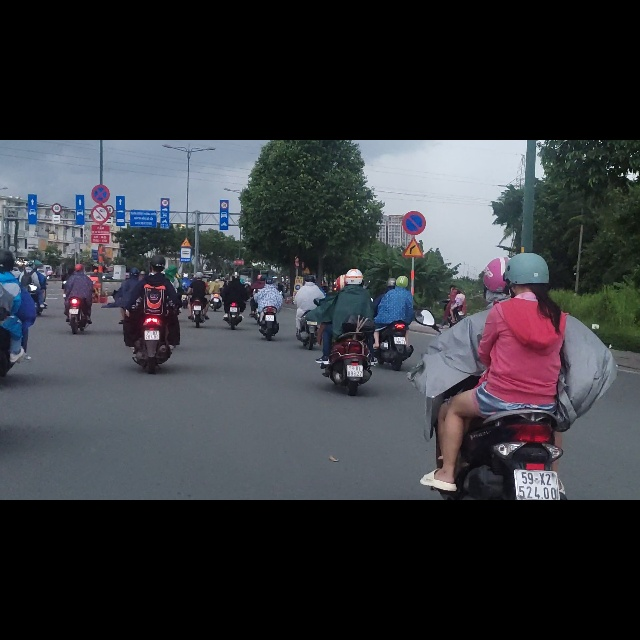bien_chi_dan: (401, 124, 426, 169), (402, 174, 424, 209), (91, 78, 110, 113), (90, 114, 109, 148), (180, 192, 192, 218), (179, 172, 192, 191), (52, 111, 62, 130), (220, 109, 228, 123), (161, 105, 169, 118)
